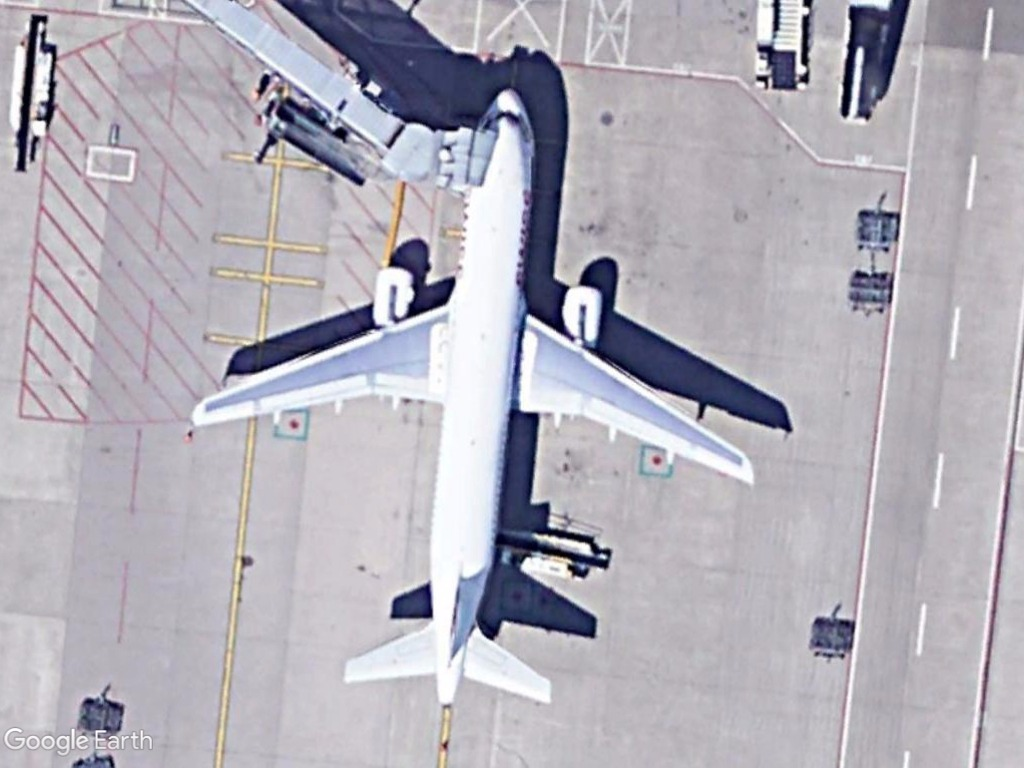airliner: (183, 83, 761, 716)
